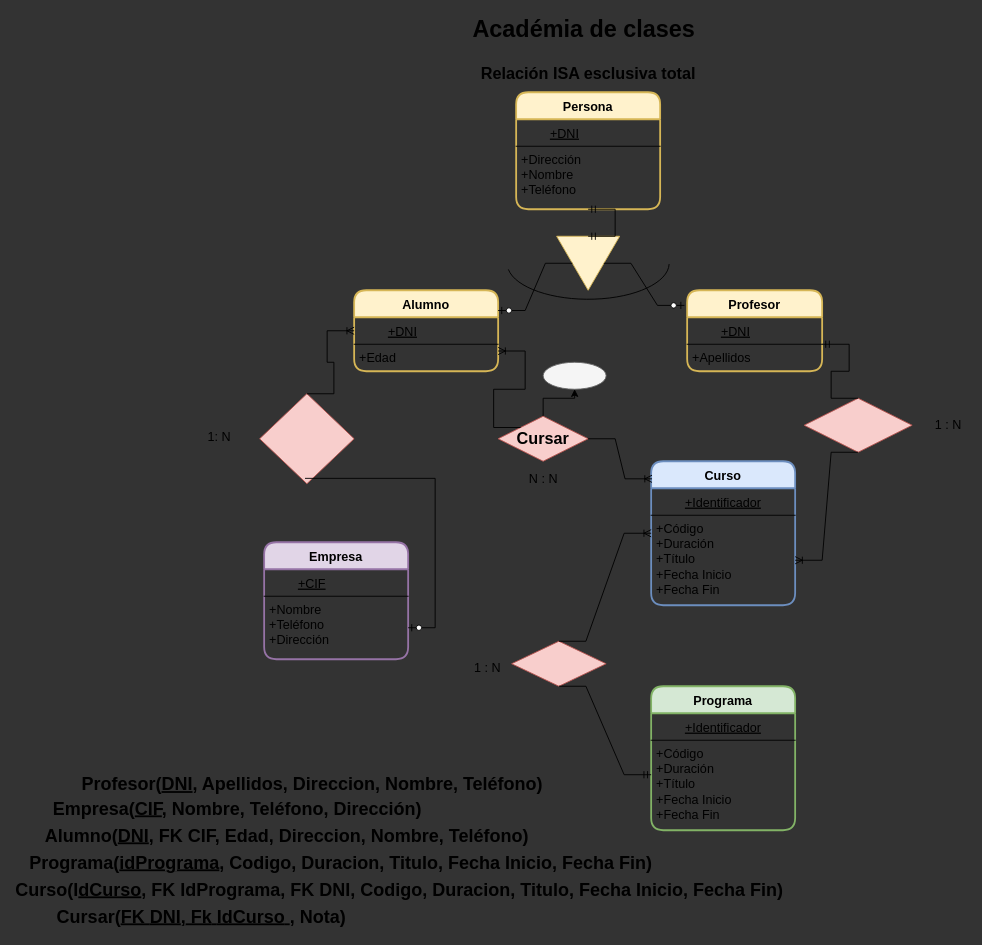
Some shapes in this 982 by 945 pixel diagram are drawn without their labels. Here are the shapes that lost their labels. From the top down, the centre of each, then its label:
At point (574, 375): "Nota".
At point (306, 438): "Trabajar".
At point (857, 424): "Impartir".
At point (558, 663): "Pertenecer".
